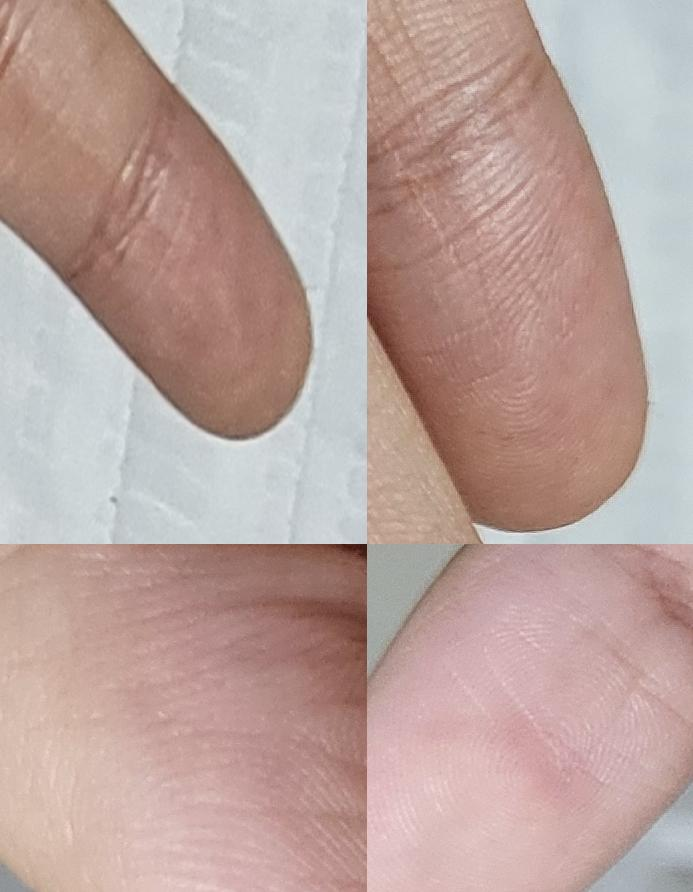Fingerprints: (367, 56, 648, 533), (2, 544, 367, 892), (367, 544, 693, 892), (80, 84, 316, 443)
